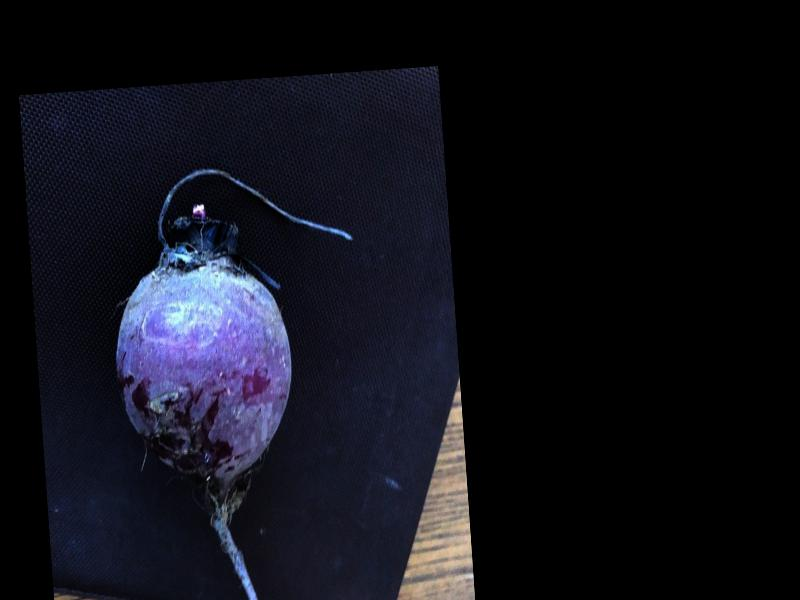Beet: (101, 158, 381, 600)
